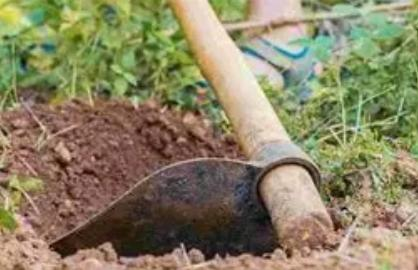HOUE: (47, 3, 344, 262)
